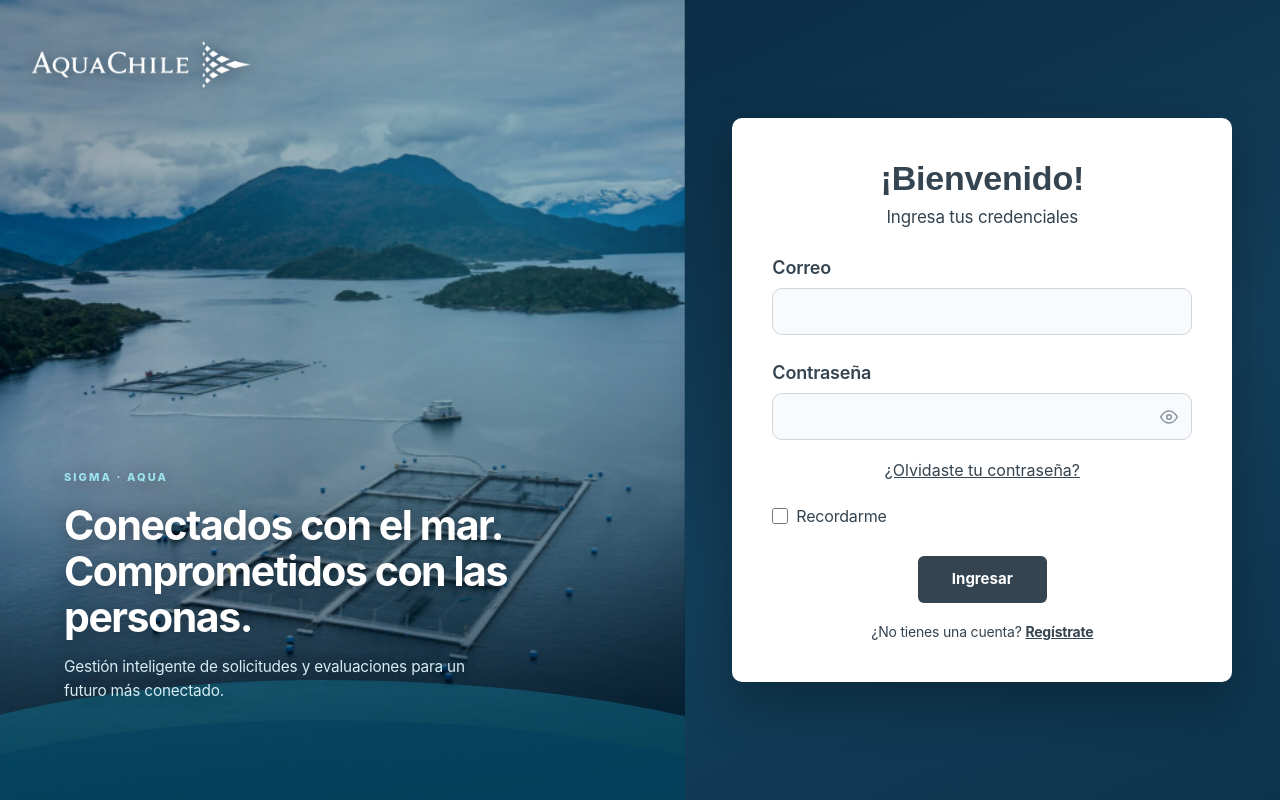
Test: LoginPage › muestra error cuando la API rechaza el login
In the field labelled "Correo": (982,312) top-left (772, 288), bottom-right (1192, 335), type "ana@aqua.cl"
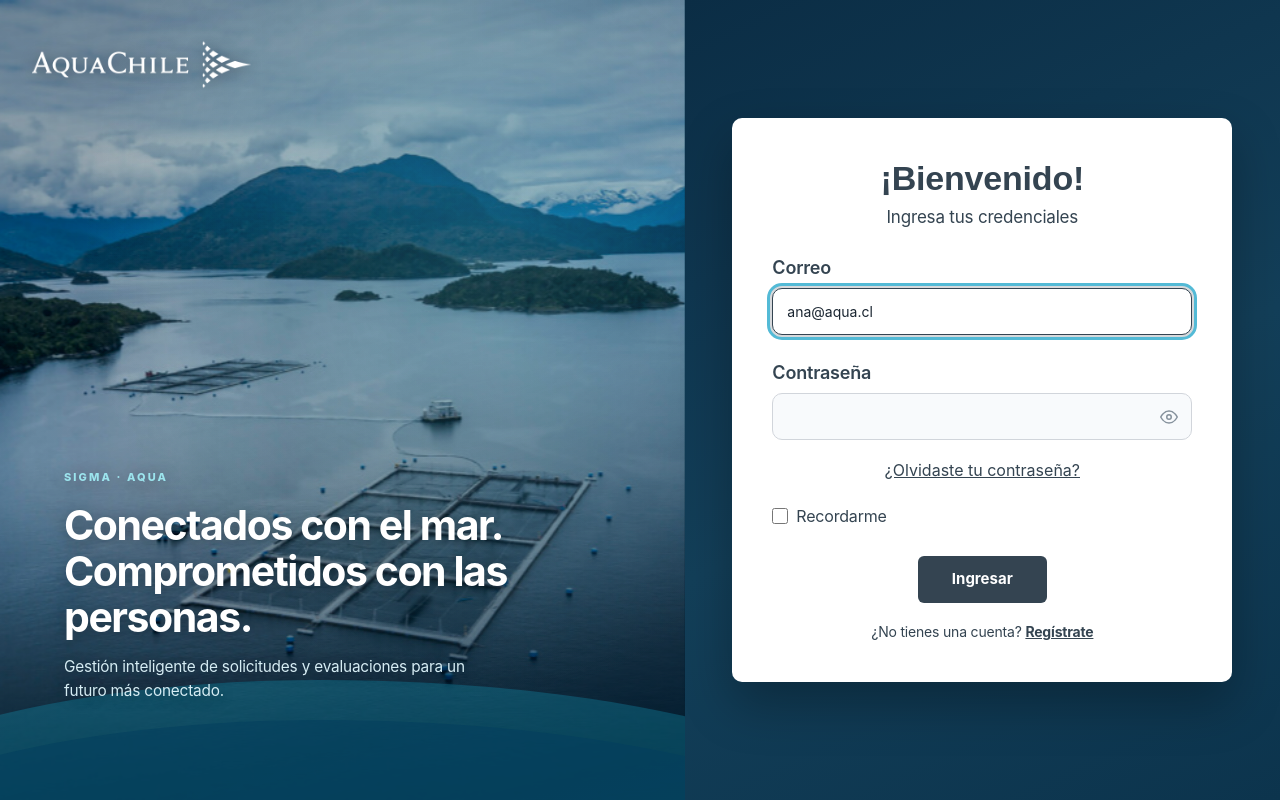
In the password field labelled "Contraseña": (982,417) top-left (772, 393), bottom-right (1192, 440), type "mal"
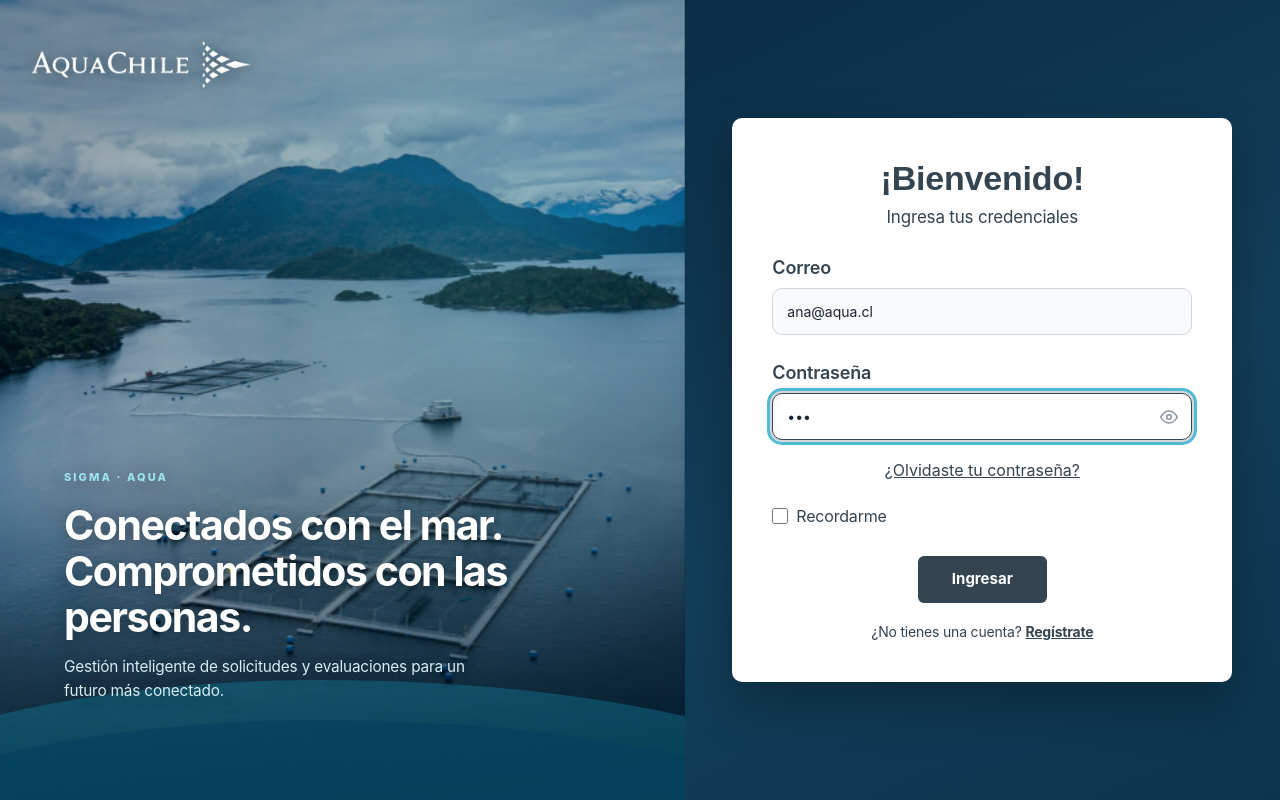
Click the button "Ingresar": (982,580) top-left (918, 556), bottom-right (1047, 603)
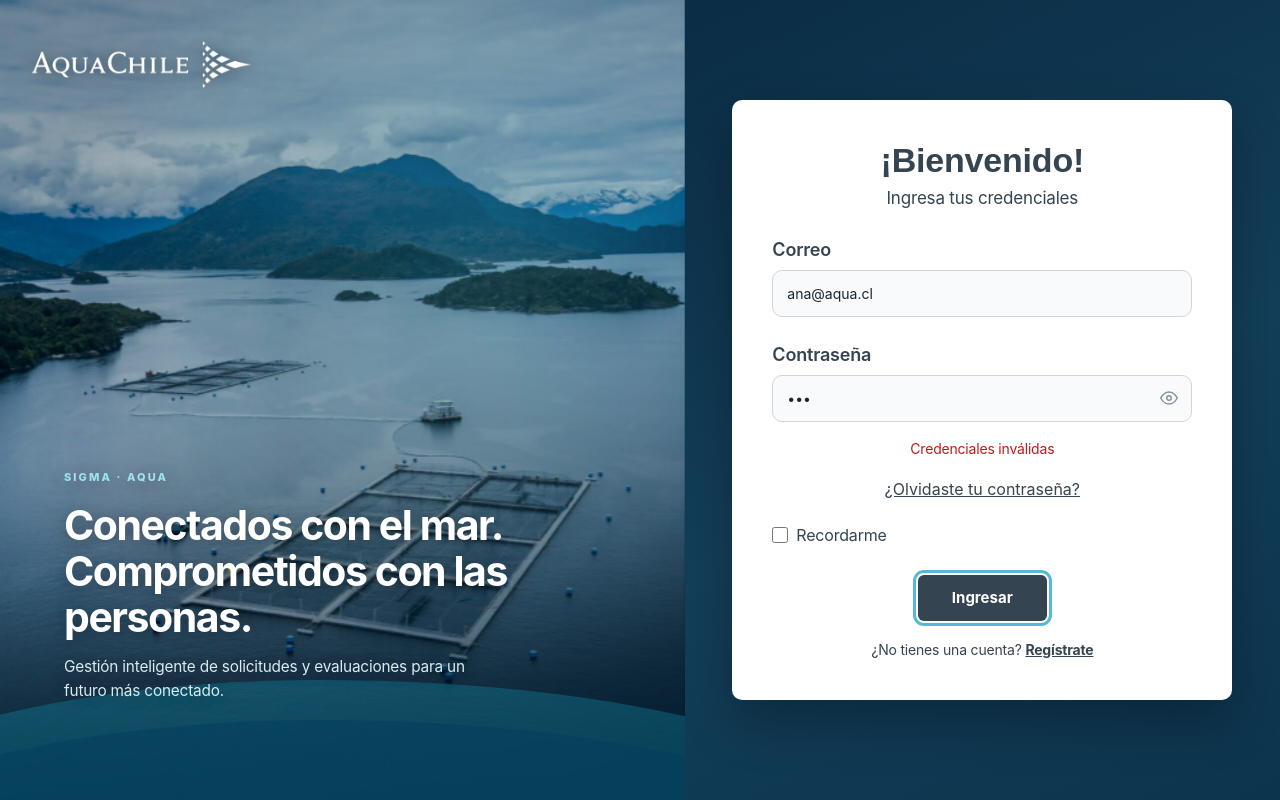
Result: the message reads "Credenciales inválidas" at top-left (910, 440), bottom-right (1054, 457)
